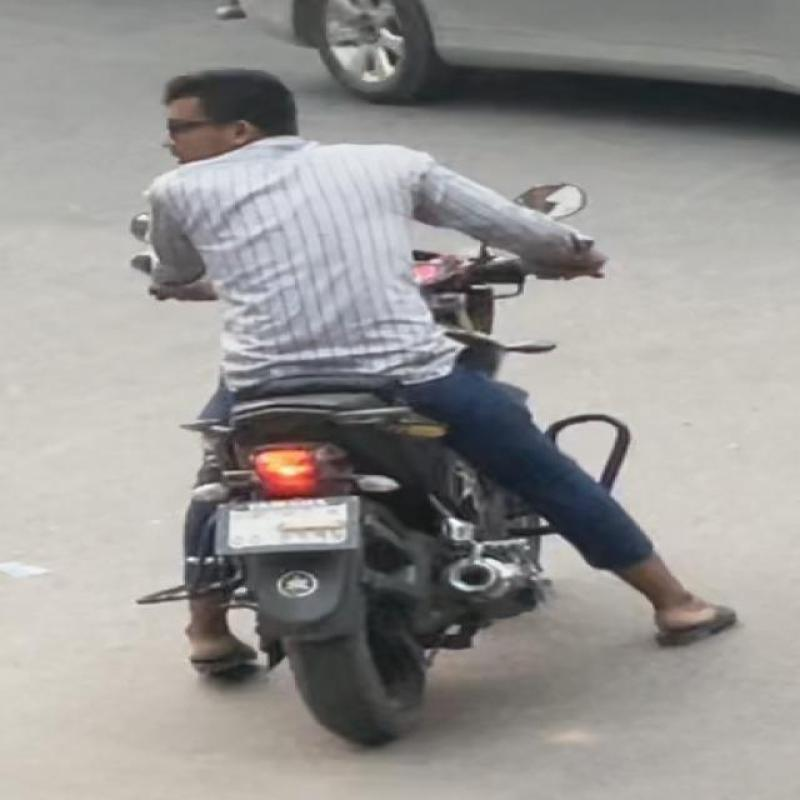nohelmet: (128, 81, 342, 163)
